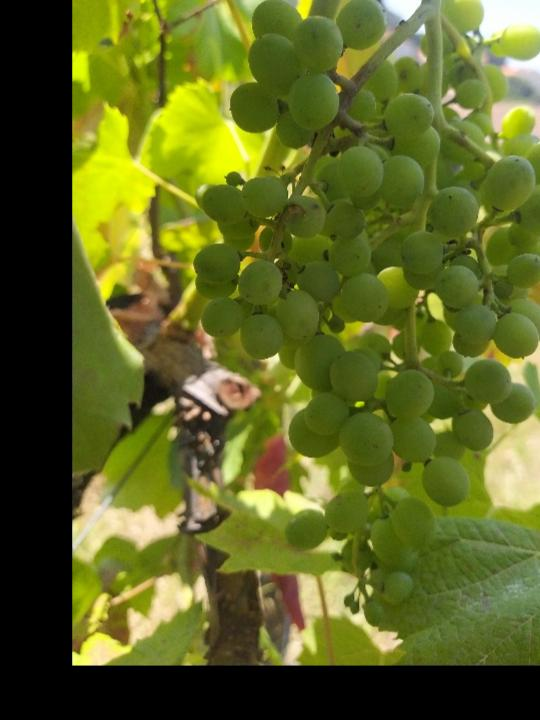grape: (190, 0, 540, 627)
